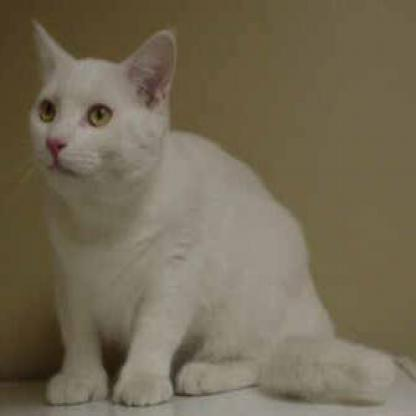cat: (31, 32, 335, 398)
